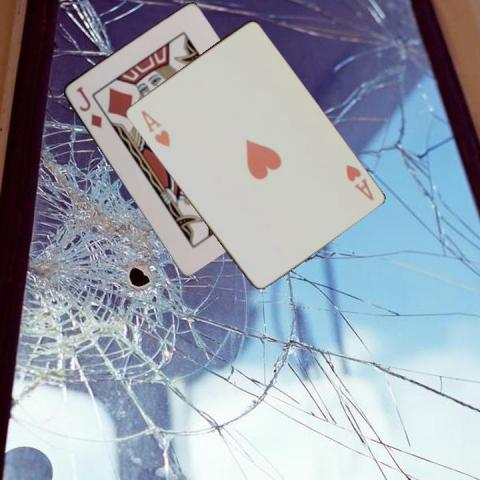Ah: (138, 106, 172, 148), (342, 161, 375, 202)
Jd: (73, 84, 103, 130)
